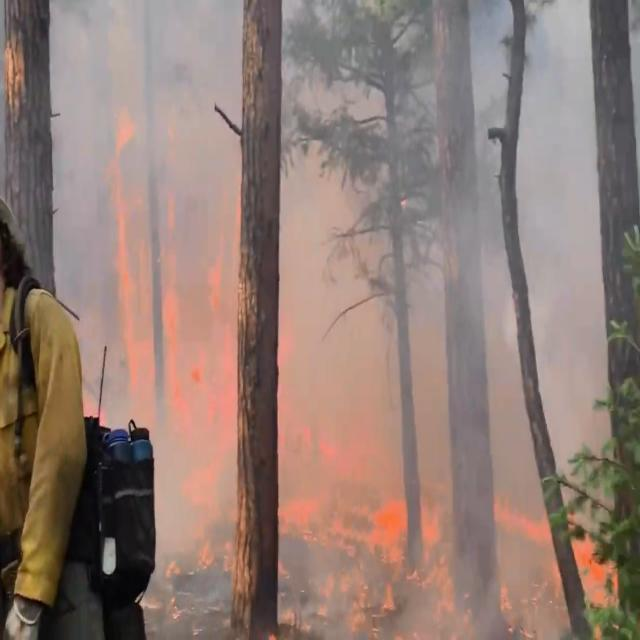Fire: (111, 110, 612, 600)
